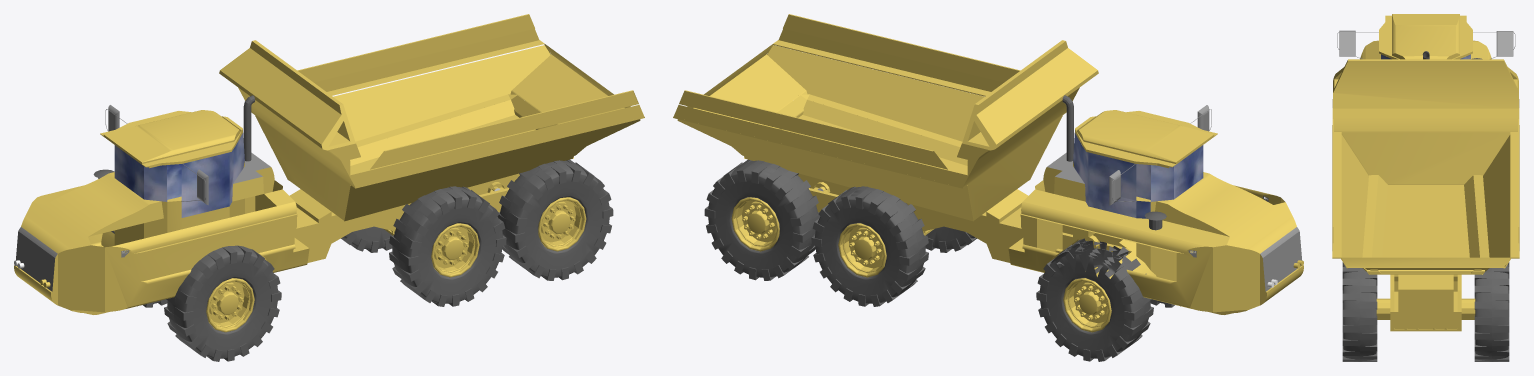
File: articulated-dump-truck.glb
3 views of the same model, side by side, from view 1: azimuth 30°, elevation 25°; view 2: azimuth 150°, elevation 25°; view 3: azimuth 270°, elevation 25° (orthographic). The views are drawn at different scales.
Parts seen in each view (by area): view 1: Geom3D_4, Geom3D_10, Geom3D_8, Geom3D_13, Geom3D_12, Geom3D_6; view 2: Geom3D_4, Geom3D_10, Geom3D_8, Geom3D_13, Geom3D_12, Geom3D_6; view 3: Geom3D_4, Geom3D_10, Geom3D_8, Geom3D_7, Geom3D_6.
Boxes of the visible parts, left/top/right/bottom form: Geom3D_4: left=219, top=14, right=644, bottom=221; Geom3D_10: left=14, top=90, right=586, bottom=332; Geom3D_8: left=93, top=95, right=613, bottom=361; Geom3D_13: left=114, top=133, right=244, bottom=217; Geom3D_12: left=15, top=152, right=270, bottom=291; Geom3D_6: left=105, top=105, right=208, bottom=205; Geom3D_4: left=673, top=14, right=1098, bottom=221; Geom3D_10: left=731, top=90, right=1303, bottom=332; Geom3D_8: left=704, top=95, right=1180, bottom=361; Geom3D_13: left=1073, top=133, right=1203, bottom=218; Geom3D_12: left=1047, top=152, right=1302, bottom=291; Geom3D_6: left=1109, top=105, right=1211, bottom=205; Geom3D_4: left=1332, top=59, right=1519, bottom=274; Geom3D_10: left=1360, top=14, right=1491, bottom=331; Geom3D_8: left=1342, top=51, right=1509, bottom=361; Geom3D_7: left=1339, top=31, right=1512, bottom=56; Geom3D_6: left=1337, top=30, right=1515, bottom=59.
Bounding box in the file's own units: 10.82 × 4.14 × 3.48.
7 materials, 1 textured.
